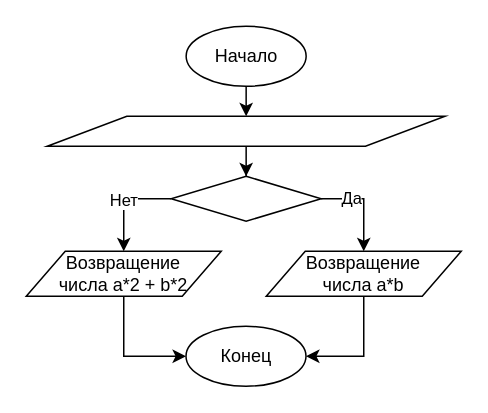
The diagram is 488 pixels wide and 413 high, and some of its shapes have lost their labels. The box of each missing label's shape, as (x1, y1, x2, y2) in pixels:
ploshad == 0: (170, 175, 321, 221)
Передача значений a, b, ploshad: (46, 115, 445, 146)
